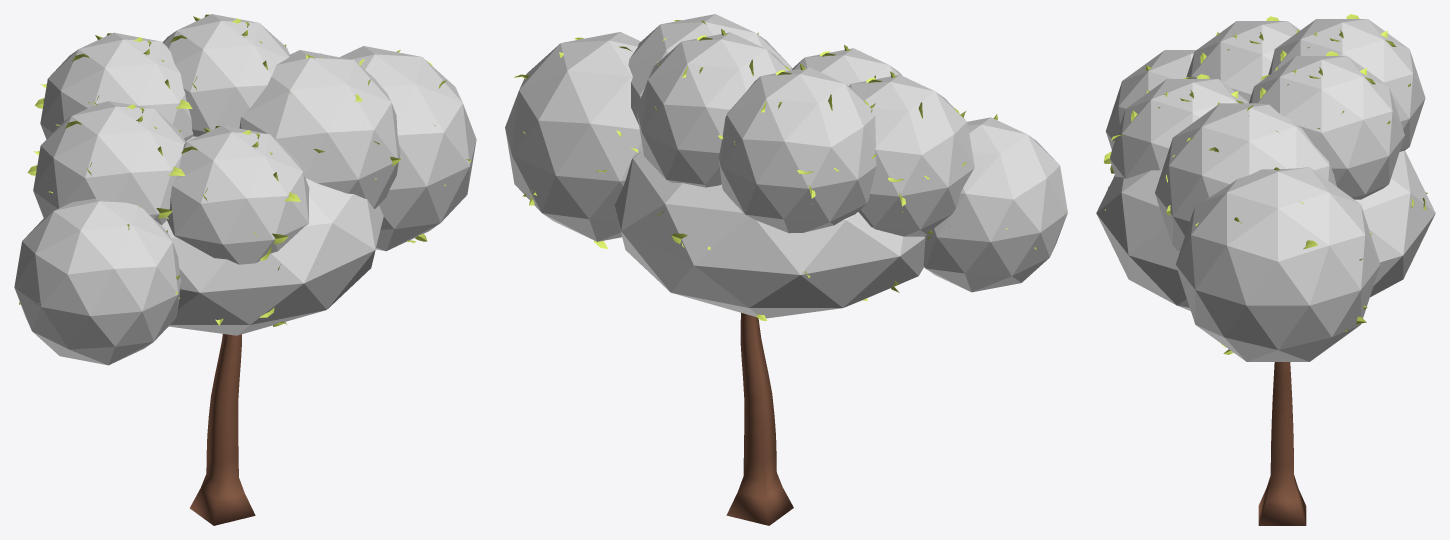
Rendered from mod_BG_AppleTree_01.fbx.
3 renders of one model, left to right at view 1: azimuth 30°, elevation 25°; view 2: azimuth 150°, elevation 25°; view 3: azimuth 270°, elevation 25°, orthographic. The views are drawn at different scales.
Visible parts, largest first — view 1: Icosphere.001, Icosphere, Icosphere.003, Icosphere.005, Icosphere.002, Icosphere.007, Icosphere.004, Icosphere.006, Tree; view 2: Icosphere, Icosphere.002, Icosphere.004, Icosphere.001, Icosphere.007, Icosphere.006, Tree, Icosphere.003, Icosphere.005; view 3: Icosphere.002, Icosphere.006, Icosphere, Icosphere.003, Icosphere.004, Icosphere.005, Icosphere.007, Tree, Icosphere.001.
Boxes of the visible parts, bbox=[...] form: Icosphere.001: bbox=[14, 198, 181, 365]; Icosphere: bbox=[161, 136, 383, 335]; Icosphere.003: bbox=[239, 50, 400, 208]; Icosphere.005: bbox=[167, 125, 309, 264]; Icosphere.002: bbox=[340, 46, 476, 251]; Icosphere.007: bbox=[33, 101, 185, 224]; Icosphere.004: bbox=[40, 32, 193, 141]; Icosphere.006: bbox=[162, 14, 289, 136]; Tree: bbox=[190, 334, 255, 525]; Icosphere: bbox=[614, 150, 925, 318]; Icosphere.002: bbox=[505, 32, 642, 241]; Icosphere.004: bbox=[718, 67, 876, 233]; Icosphere.001: bbox=[923, 117, 1067, 292]; Icosphere.007: bbox=[848, 74, 974, 236]; Icosphere.006: bbox=[636, 32, 788, 187]; Tree: bbox=[726, 313, 793, 525]; Icosphere.003: bbox=[628, 14, 792, 124]; Icosphere.005: bbox=[792, 48, 902, 85]; Icosphere.002: bbox=[1176, 167, 1380, 361]; Icosphere.006: bbox=[1249, 56, 1404, 199]; Icosphere: bbox=[1096, 150, 1435, 310]; Icosphere.003: bbox=[1155, 103, 1336, 251]; Icosphere.004: bbox=[1268, 19, 1425, 151]; Icosphere.005: bbox=[1110, 79, 1248, 178]; Icosphere.007: bbox=[1186, 21, 1300, 101]; Tree: bbox=[1258, 362, 1306, 525]; Icosphere.001: bbox=[1105, 50, 1195, 149].
Size of the model in its own units: 319 by 302 by 200.
